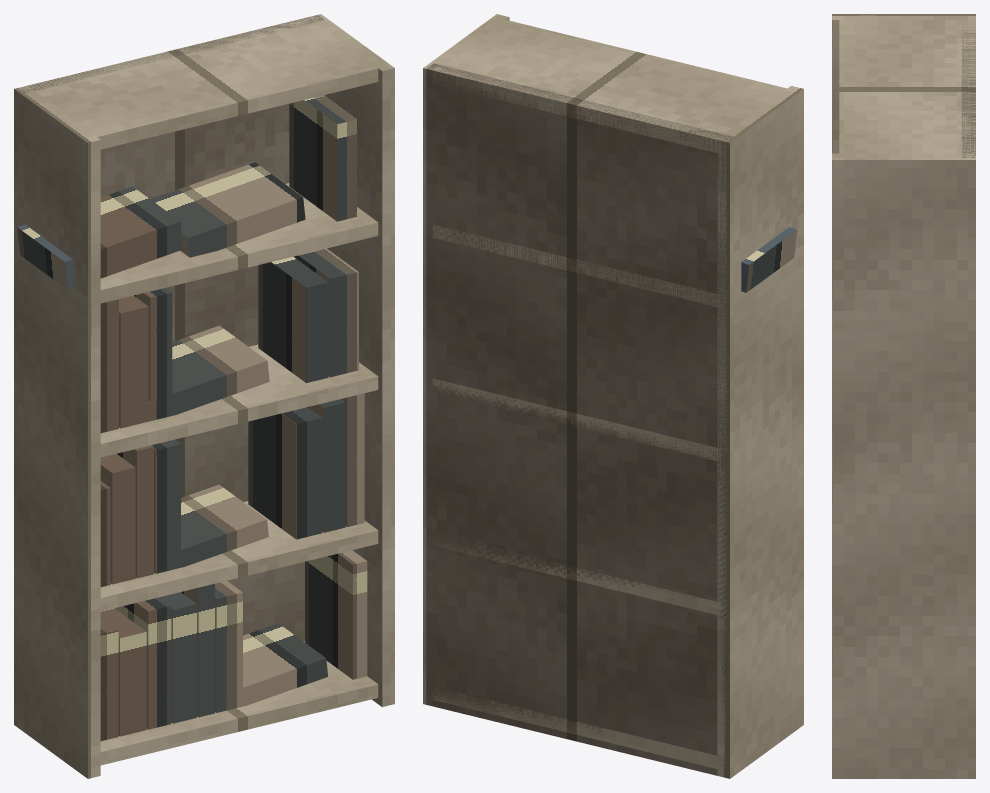
File: bookshelf_e.glb
3 views of the same model, side by side, from view 1: azimuth 30°, elevation 25°; view 2: azimuth 150°, elevation 25°; view 3: azimuth 270°, elevation 25° (orthographic). The views are drawn at different scales.
Visible parts, largest first — view 1: body; view 2: body; view 3: body.
Boxes of the visible parts, x1,y1,x2,y2 form: body: (14,14,394,778); body: (423,14,803,778); body: (832,14,975,778).
Size of the model in its own units: 0.9848 by 1.9 by 0.4.
Materials: 3 (3 with a texture image).
